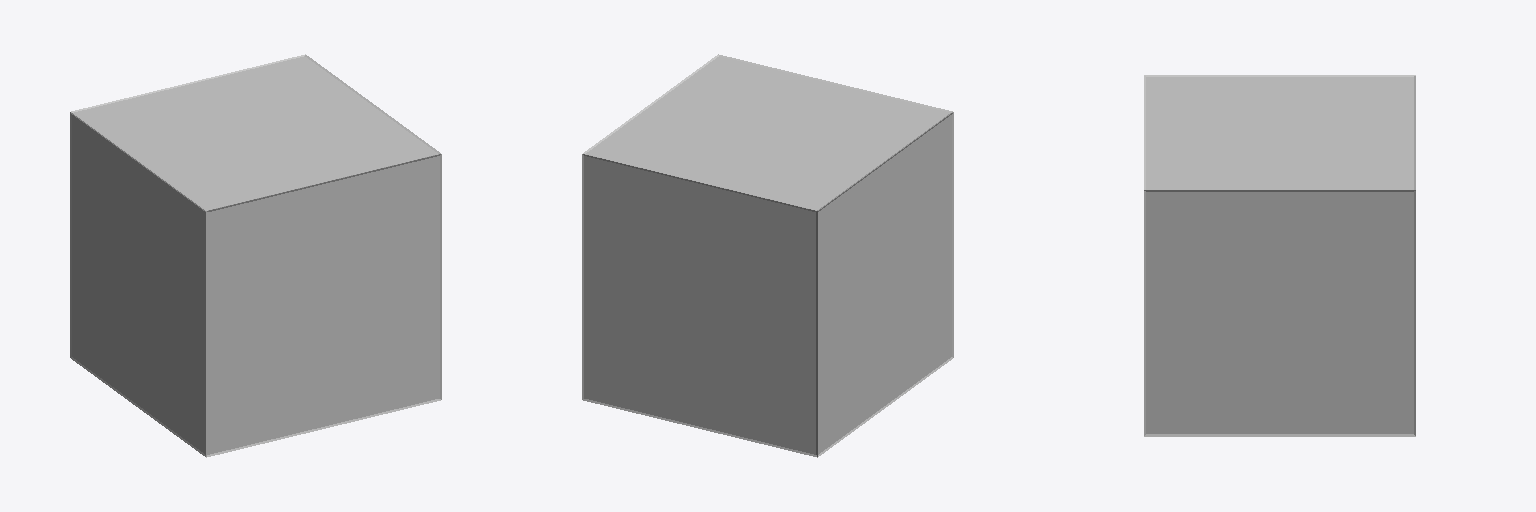
Rendered from cube-aretes.obj.
The picture shows the model from 3 angles: view 1: azimuth 30°, elevation 25°; view 2: azimuth 150°, elevation 25°; view 3: azimuth 270°, elevation 25°; orthographic projection.
Visible parts, largest first — view 1: Cube, Cube.001; view 2: Cube, Cube.001; view 3: Cube, Cube.001.
Boxes of the visible parts, x1=… form: Cube: x1=72, y1=56, x2=439, y2=454; Cube.001: x1=70, y1=54, x2=441, y2=457; Cube: x1=584, y1=56, x2=951, y2=454; Cube.001: x1=582, y1=54, x2=953, y2=457; Cube: x1=1146, y1=77, x2=1413, y2=433; Cube.001: x1=1144, y1=75, x2=1415, y2=436.
Size of the model in its own units: 2.01 by 2.01 by 2.01.